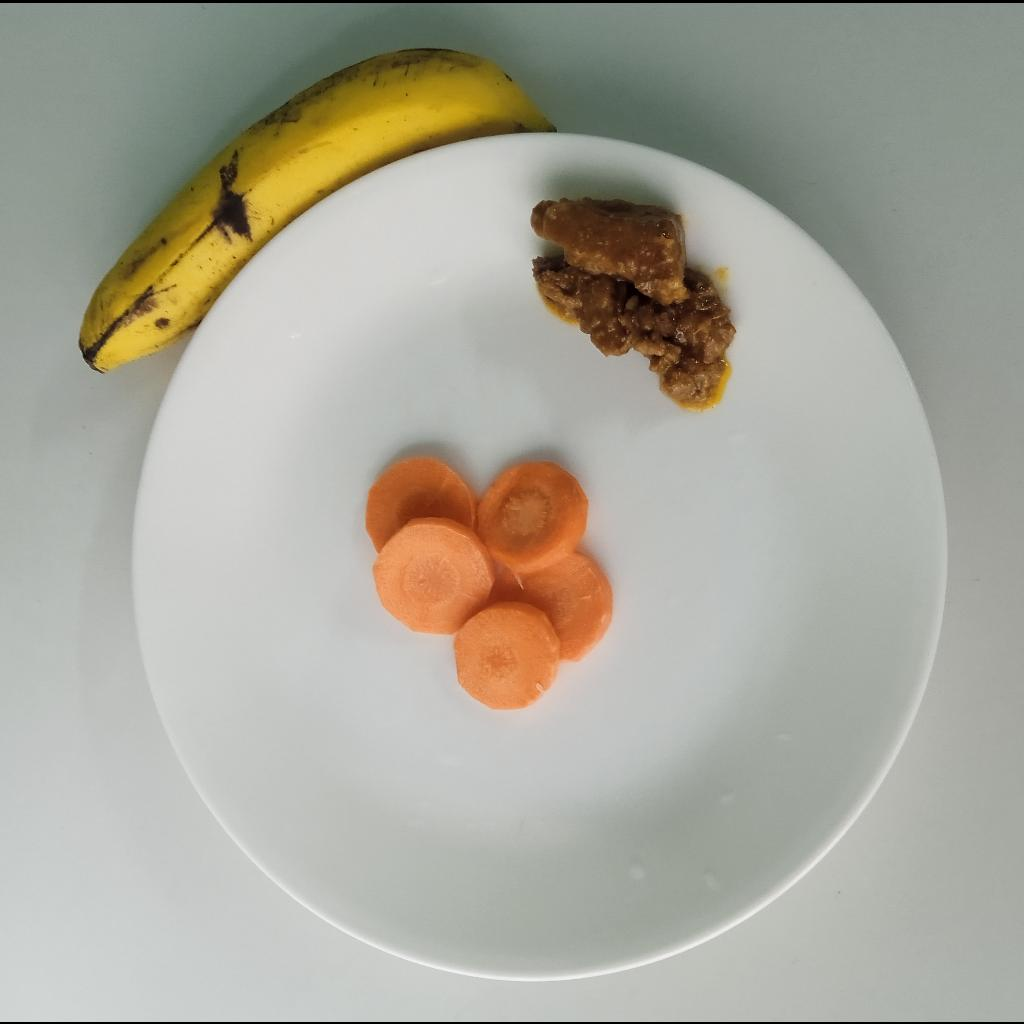banana: (74, 43, 554, 373)
beef: (532, 197, 739, 409)
carrot: (364, 453, 616, 712)
